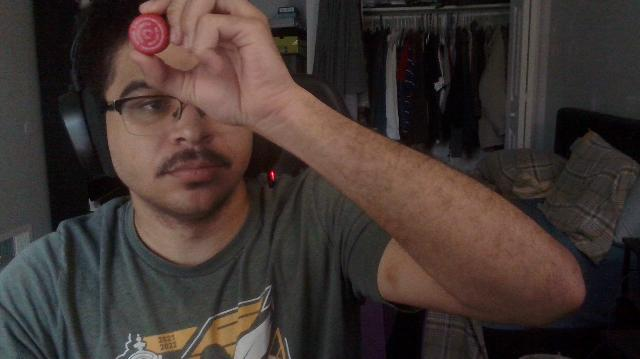cap: (128, 14, 170, 54)
